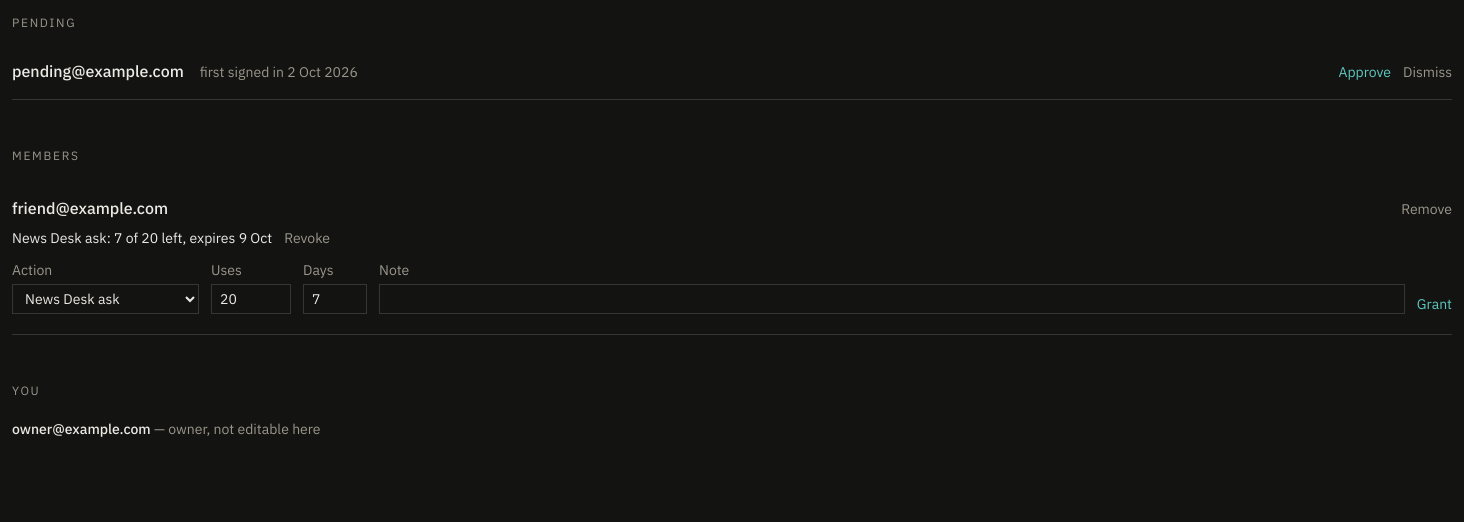
Test: AccessAdmin › shows the API's error message
The image size is (1464, 522).
Expected: the text "pending@example.com" is shown, [12, 59, 184, 83]
Click the button with aria-label "Dismiss pending@example.com" at [1428, 72], box [1403, 62, 1452, 82]
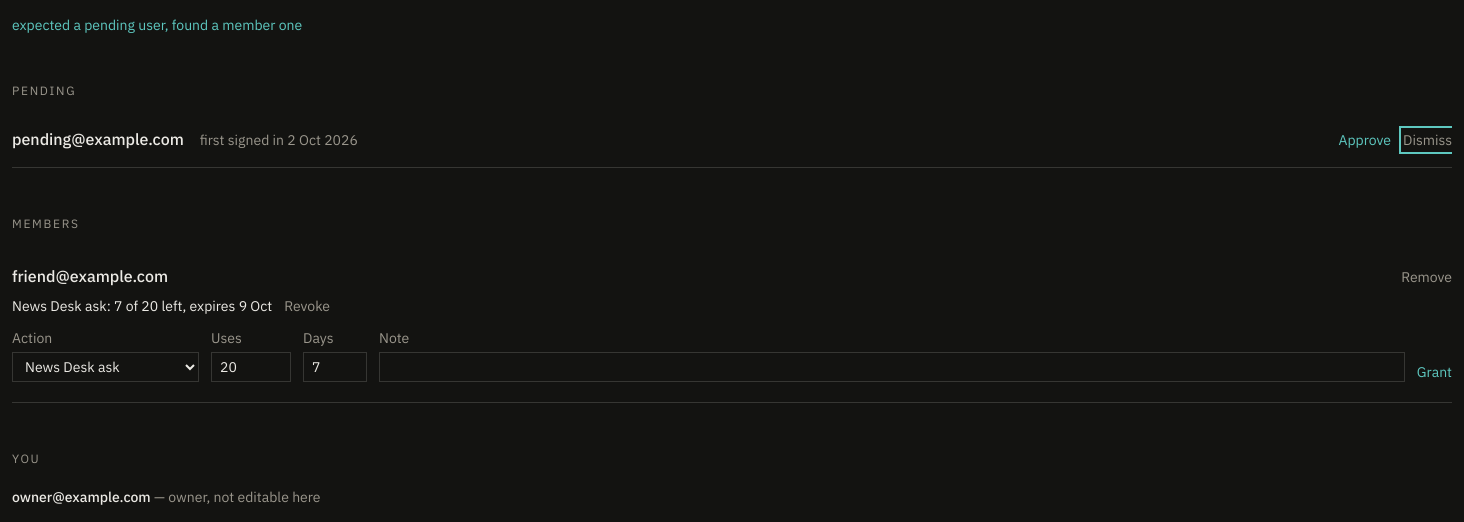
Now the message reads "expected a pending user, found a member one", box [12, 16, 302, 34]
